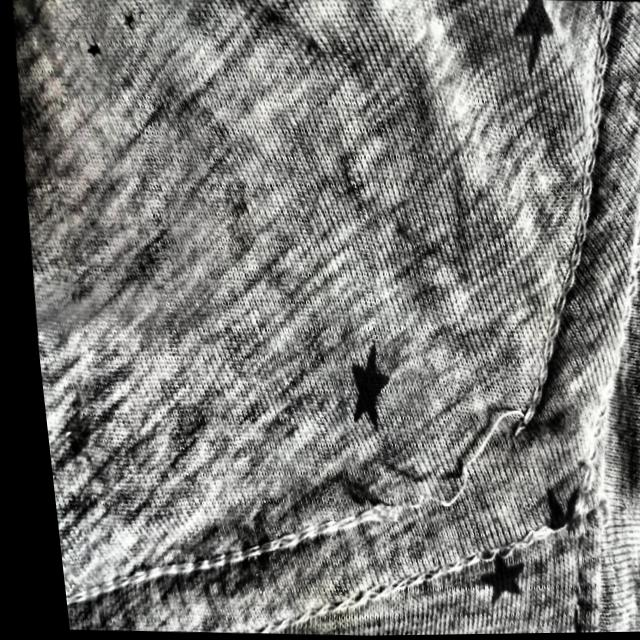Stitch: (326, 392, 548, 537)
